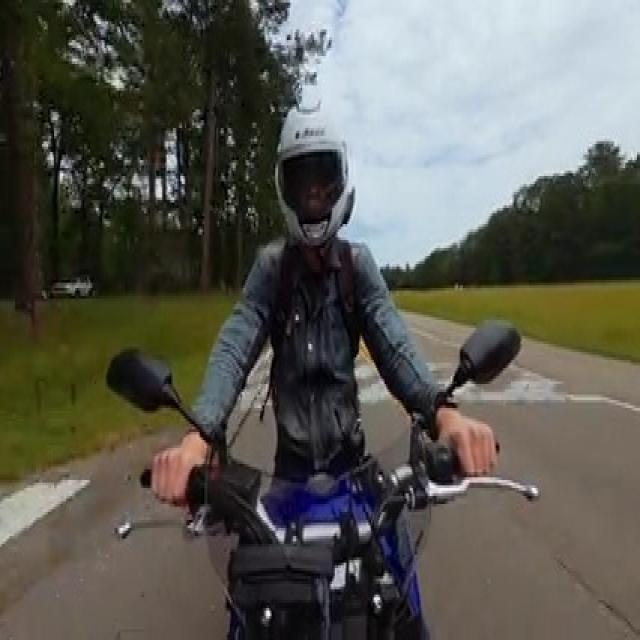Helmet_Wearer: (270, 91, 365, 259)
Person: (178, 103, 501, 485)
